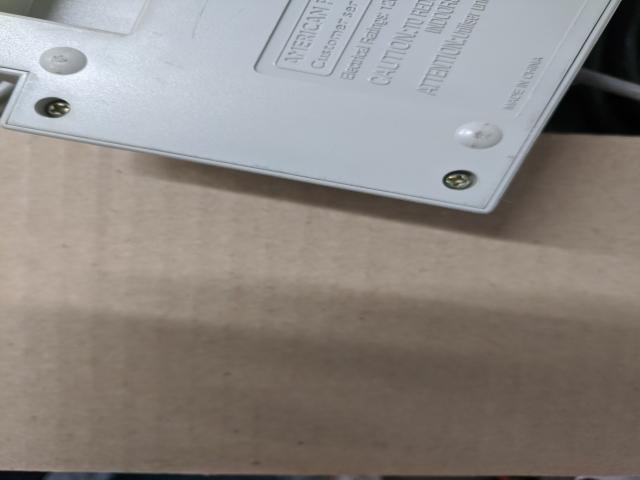CRS: (443, 170, 478, 190), (38, 100, 74, 118)
